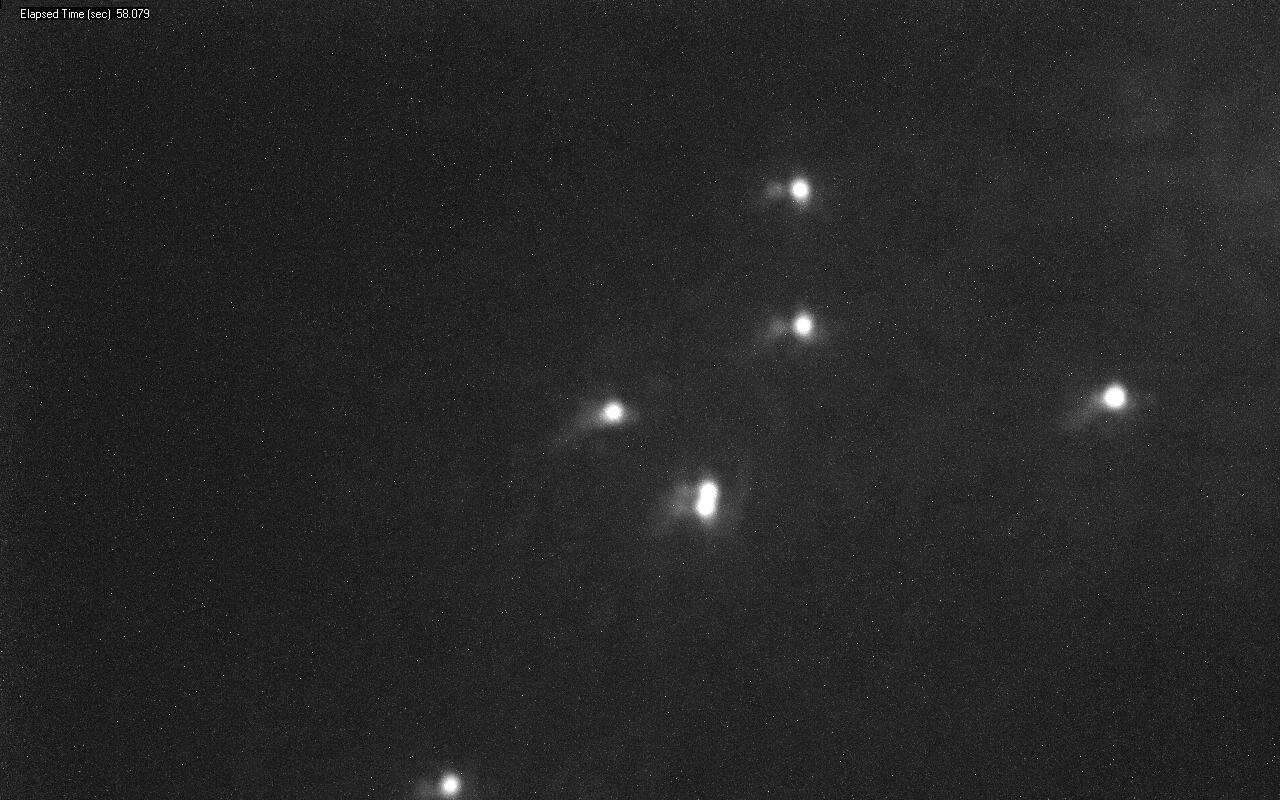Bead: (1101, 384, 1126, 408), (791, 312, 812, 338), (601, 402, 625, 423), (440, 774, 460, 799), (788, 179, 808, 203), (699, 489, 705, 513)
